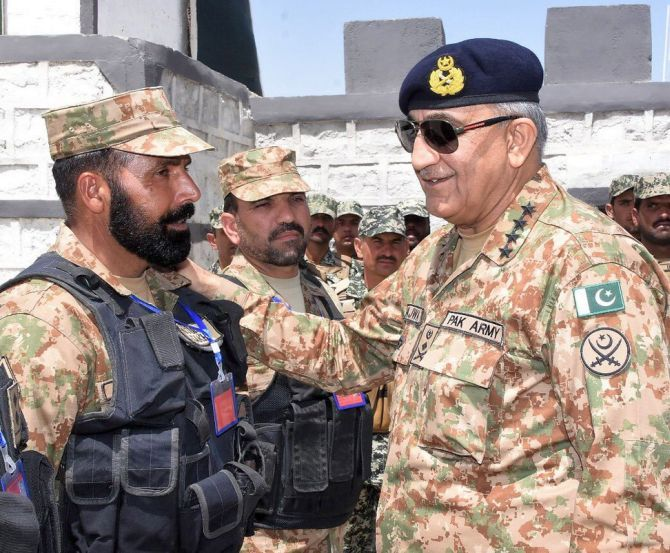uniform: (348, 179, 666, 540), (2, 219, 234, 540), (200, 243, 383, 522)
